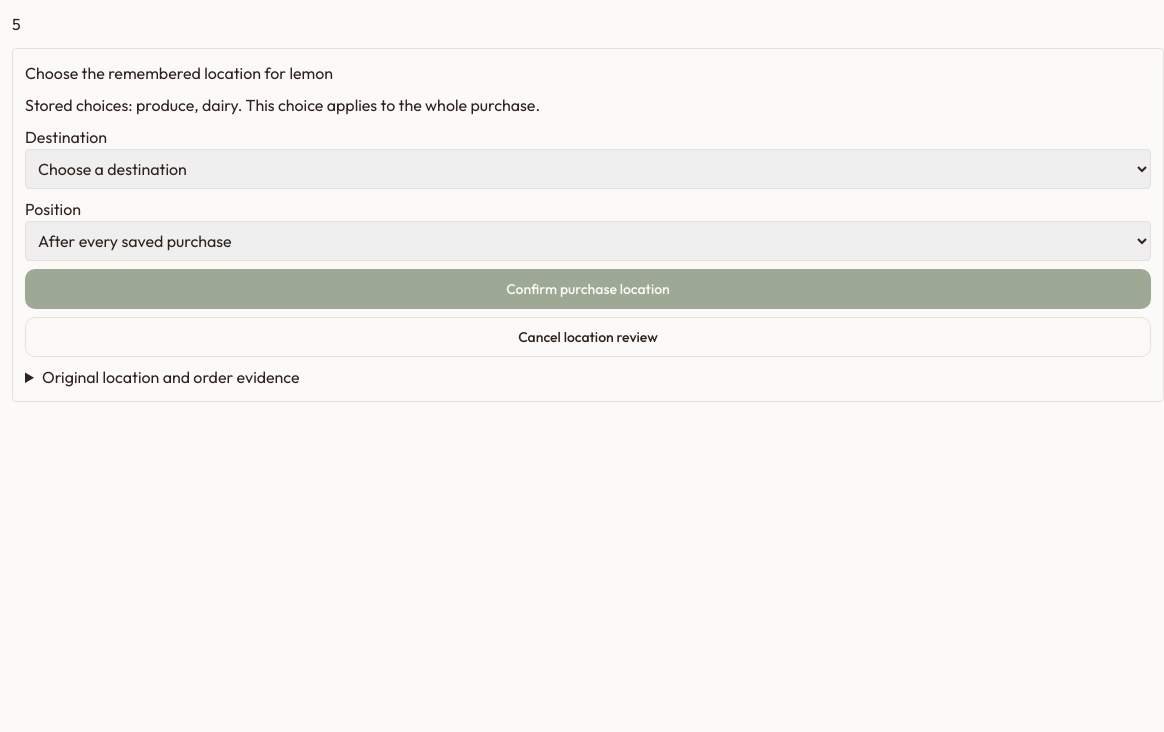
placement review binding through the component and QueryClient › keeping the current location also rejects a refreshed stale review
Select "Fresh Produce" in the dropdown labelled "Destination": (588, 169) [25, 149, 1151, 189]
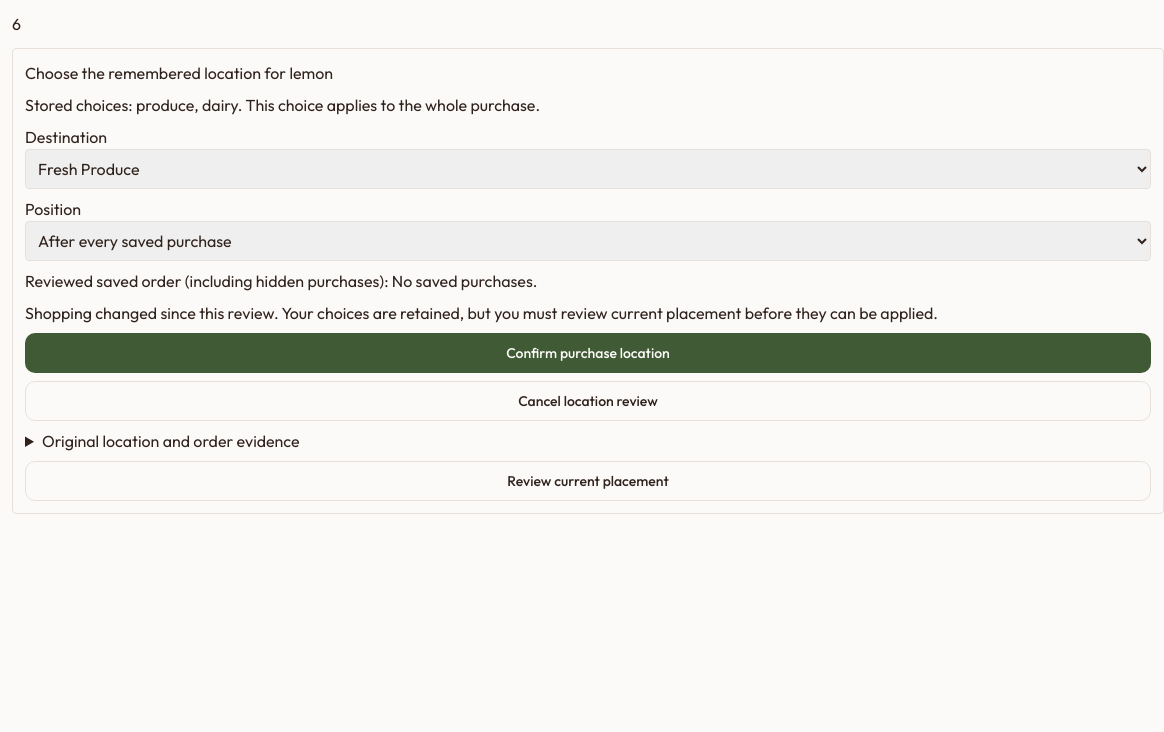
Click the button "Confirm purchase location": (588, 353) [25, 333, 1151, 373]
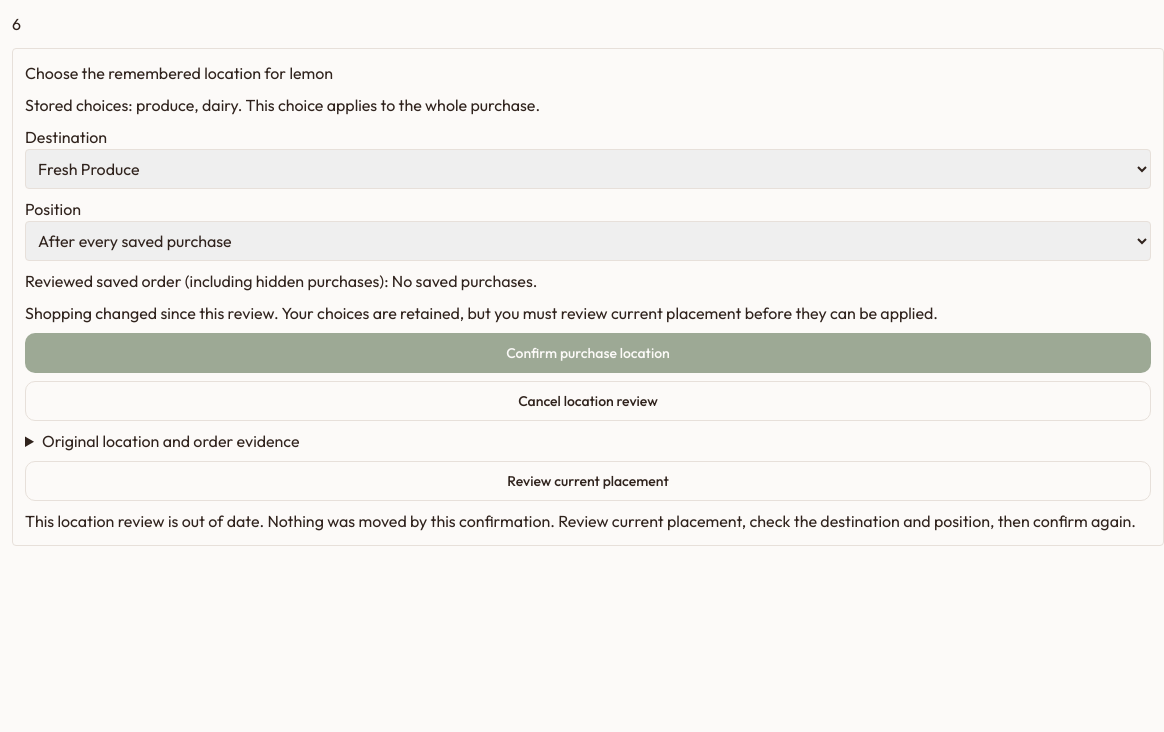
Expected: the 2nd message is shown, [25, 509, 1151, 533]
